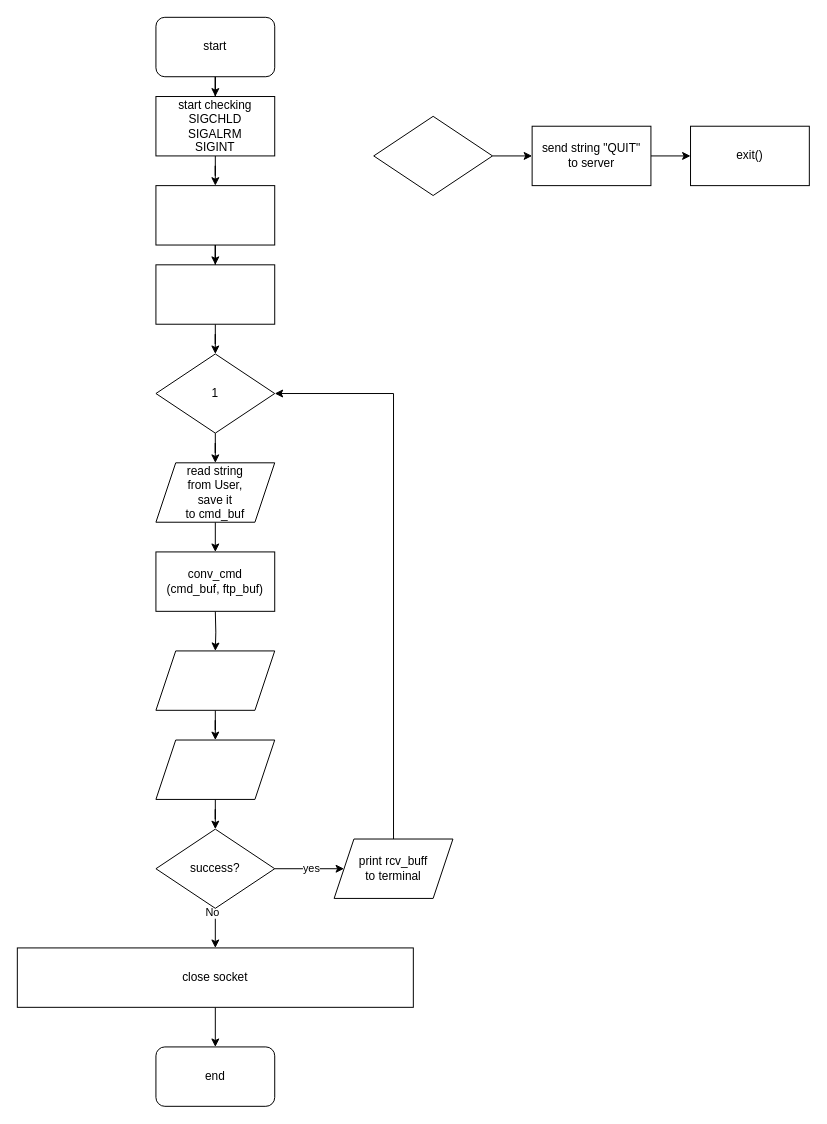
Some shapes in this 827 by 1124 pixel diagram are drawn without their labels. Each missing label, with the centre of its shape:
"connect to server" goes at (215,294).
"oepn server socket" goes at (215,215).
"read from Server" goes at (215,769).
"send ftp_buf to server" goes at (215,680).
"SIGCHLD checked?" goes at (433,155).
